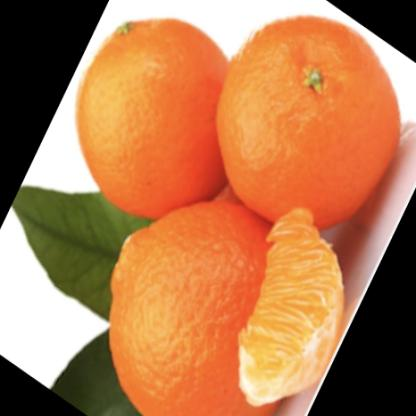fresh: (80, 17, 400, 416)
